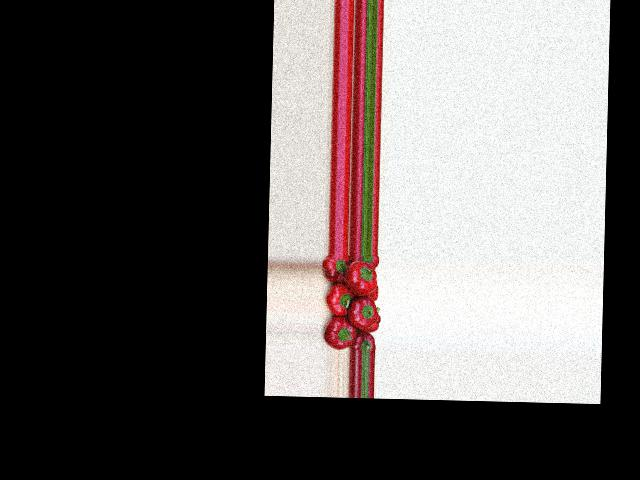bell_pepper: (366, 287, 380, 301)
